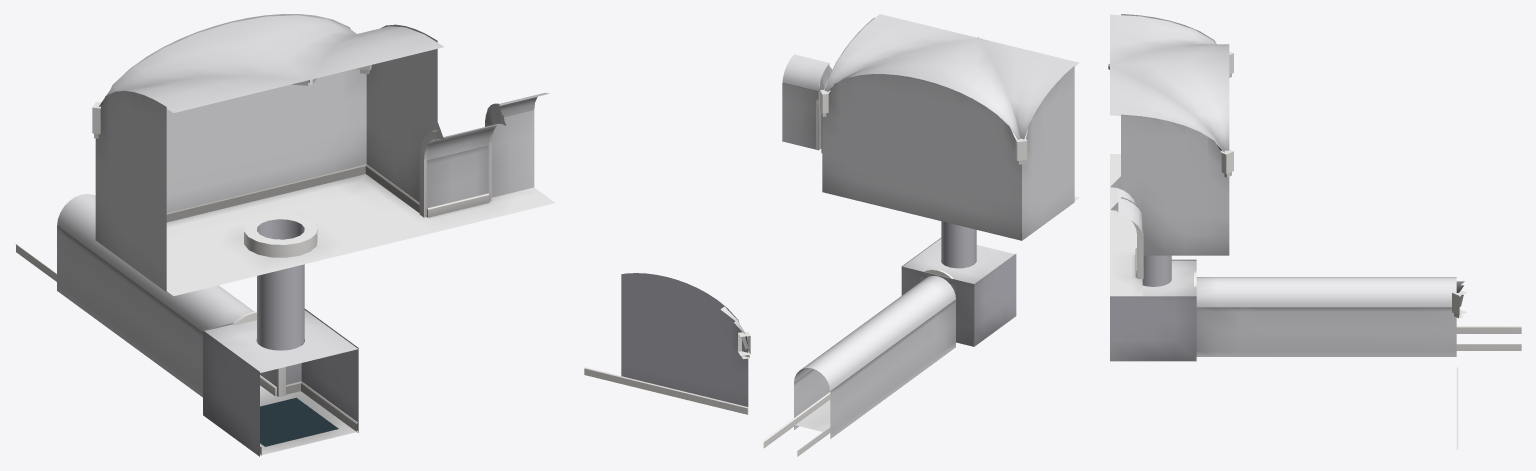
Rendered from crypt_01_ab.glb.
3 renders of one model, left to right at view 1: azimuth 30°, elevation 25°; view 2: azimuth 150°, elevation 25°; view 3: azimuth 270°, elevation 25°, orthographic. The views are drawn at different scales.
Visible parts, largest first — view 1: crypt_01_ab; view 2: crypt_01_ab; view 3: crypt_01_ab.
Part boxes in pixels (<box>): crypt_01_ab: <box>14,14,554,456</box>; crypt_01_ab: <box>584,14,1079,456</box>; crypt_01_ab: <box>1108,14,1521,449</box>.
Size of the model in its own units: 18.21 by 14.45 by 19.08.
